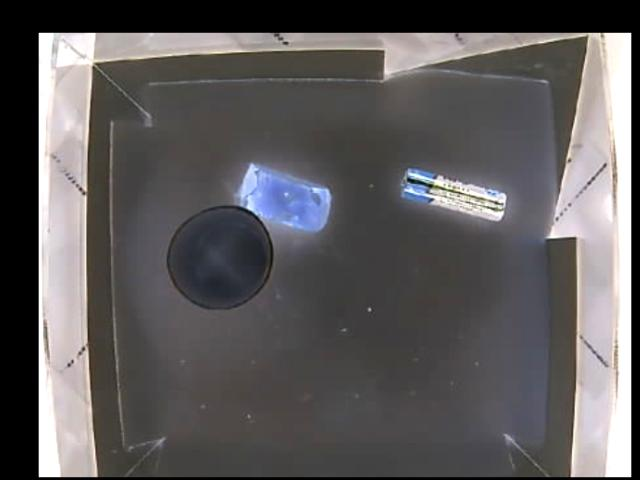Battery: (397, 166, 509, 219)
Cup: (163, 203, 275, 312)
Potato: (233, 166, 333, 231)
